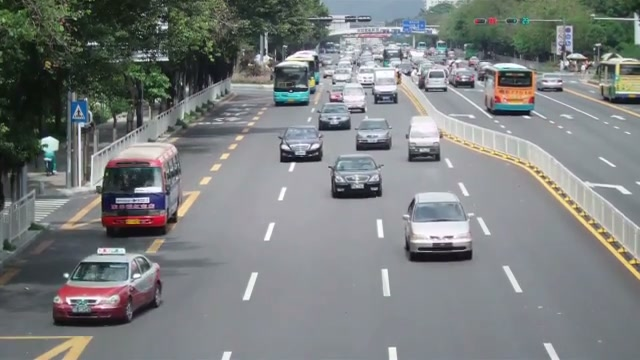bus: (100, 142, 182, 236), (482, 63, 537, 115), (598, 57, 640, 103), (272, 61, 311, 105), (286, 50, 320, 86)
car: (51, 248, 164, 326), (400, 191, 474, 261), (327, 154, 384, 198), (279, 125, 324, 162), (405, 116, 441, 162), (355, 118, 393, 151), (318, 103, 352, 130), (342, 83, 367, 112), (451, 68, 477, 88), (538, 76, 564, 91)
truck: (372, 68, 399, 103)
